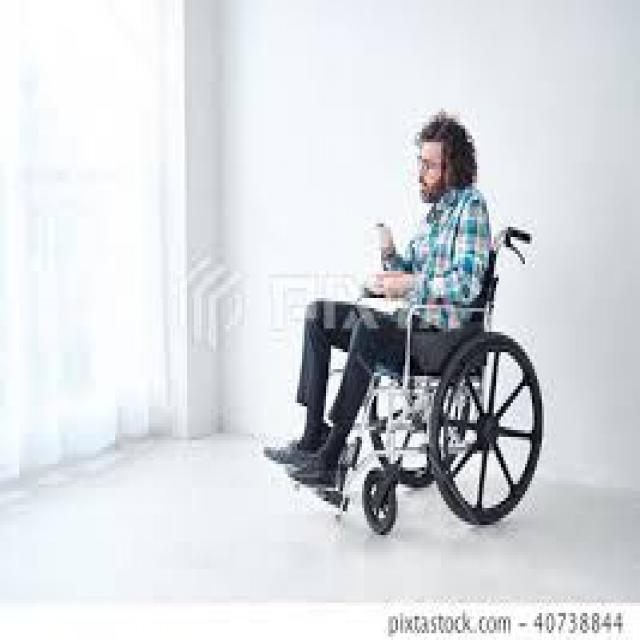wheelchairs: (299, 217, 552, 546)
